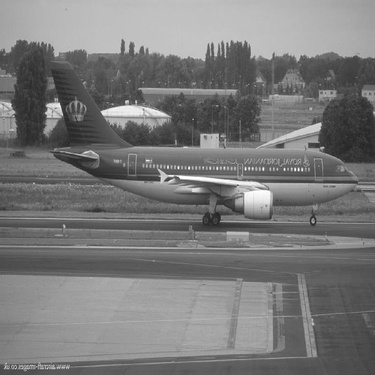airplane: (36, 50, 361, 235)
